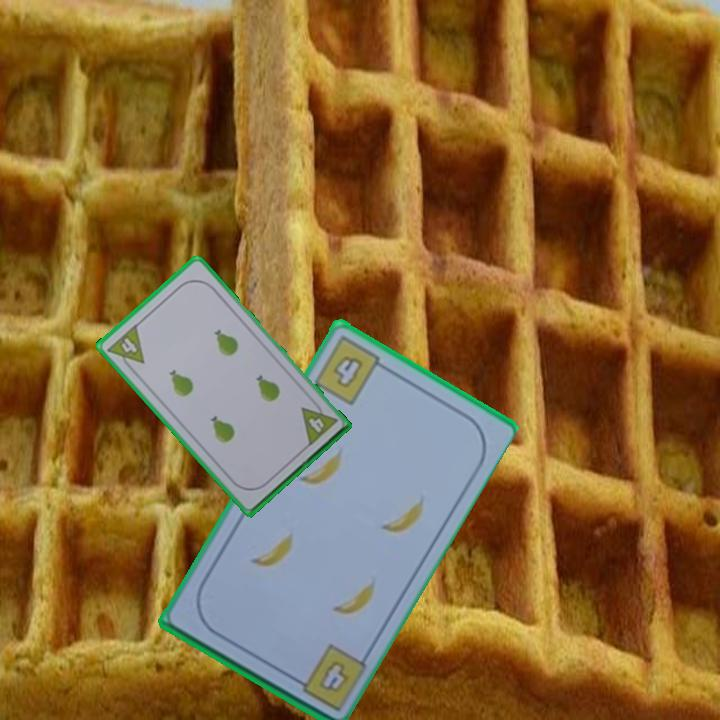4b: (310, 332, 391, 408), (315, 656, 352, 695)
4p: (104, 320, 147, 375), (297, 396, 340, 449)
